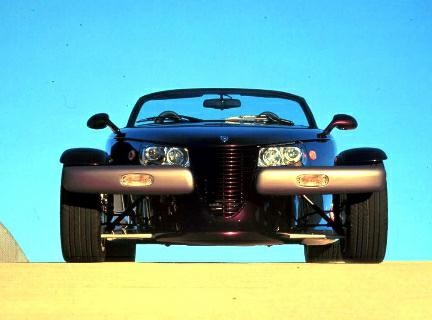克莱斯勒-猎兽: (56, 82, 393, 265)
